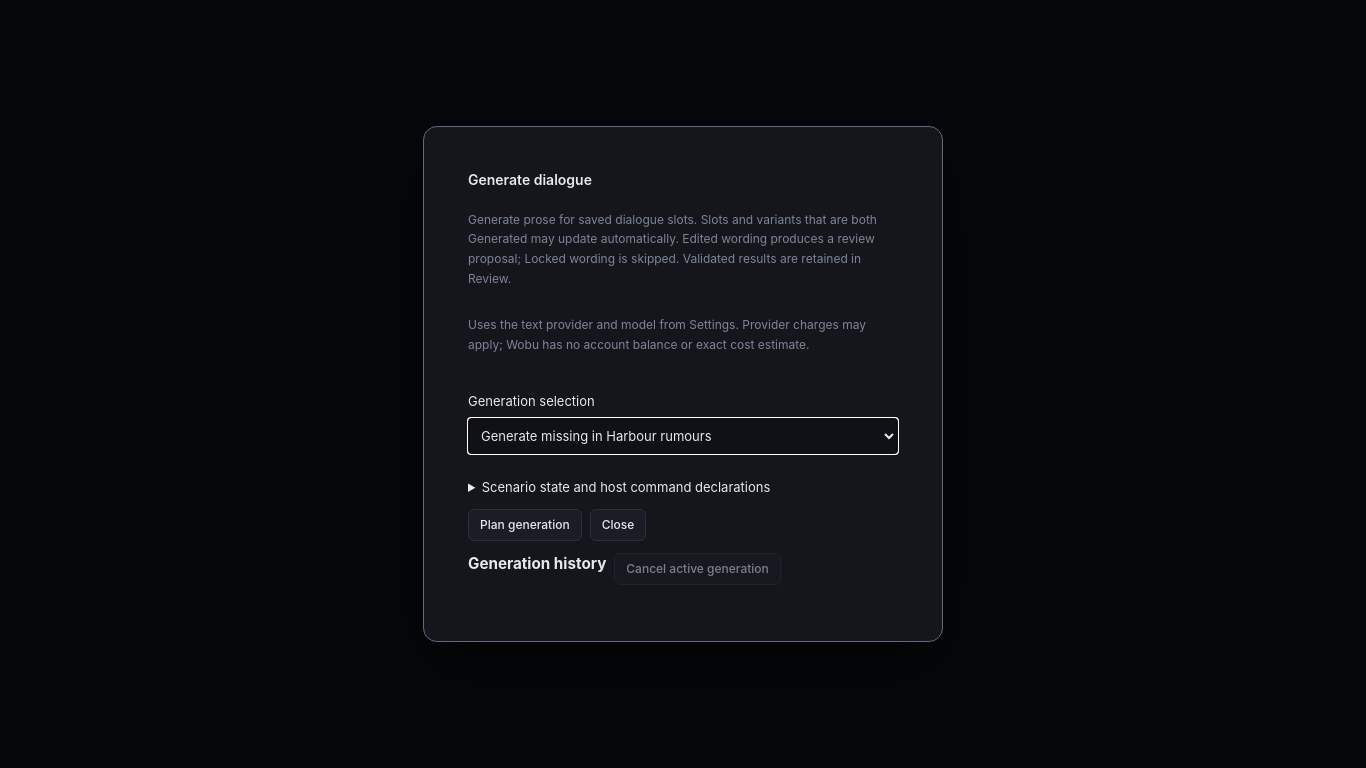
it: displays planning errors without submitting a request
Click the button "Plan generation". click: (525, 525)
box: [468,509,582,541]
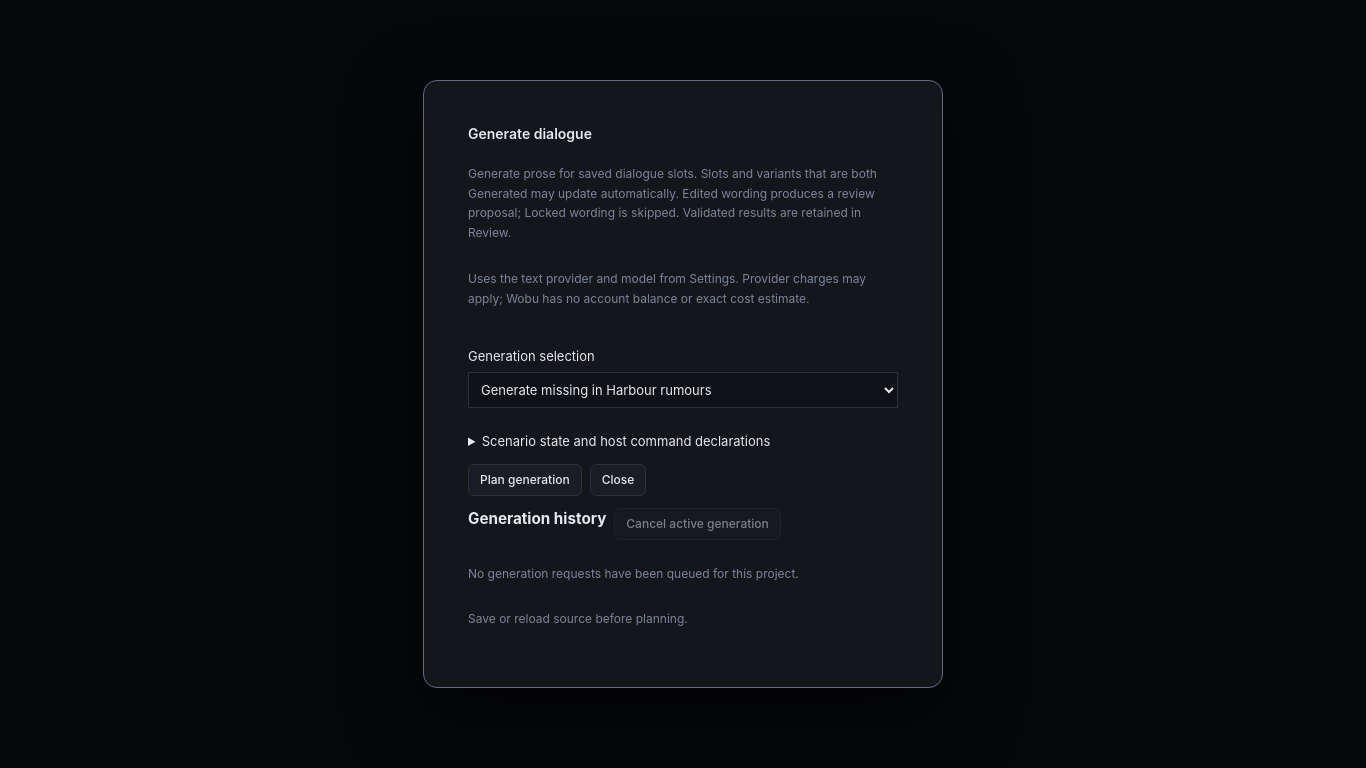
Expected: the message reads "Save or reload source before planning.", [468,611,688,626]
